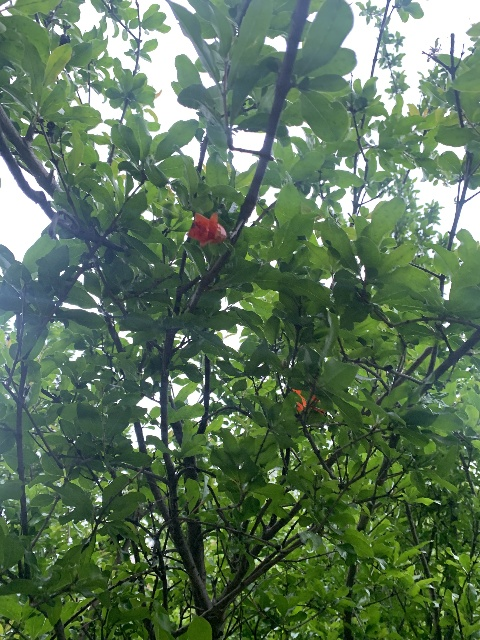flower: (187, 211, 227, 248)
